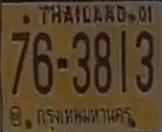1: (119, 29, 128, 94)
3: (71, 30, 91, 94), (134, 30, 154, 91)
6: (32, 32, 52, 94)
7: (11, 31, 29, 95)
8: (93, 31, 111, 92)
BKK: (34, 103, 134, 129)
